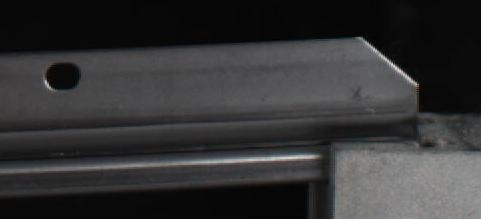cut: (305, 36, 426, 179)
holes: (43, 60, 82, 93)
